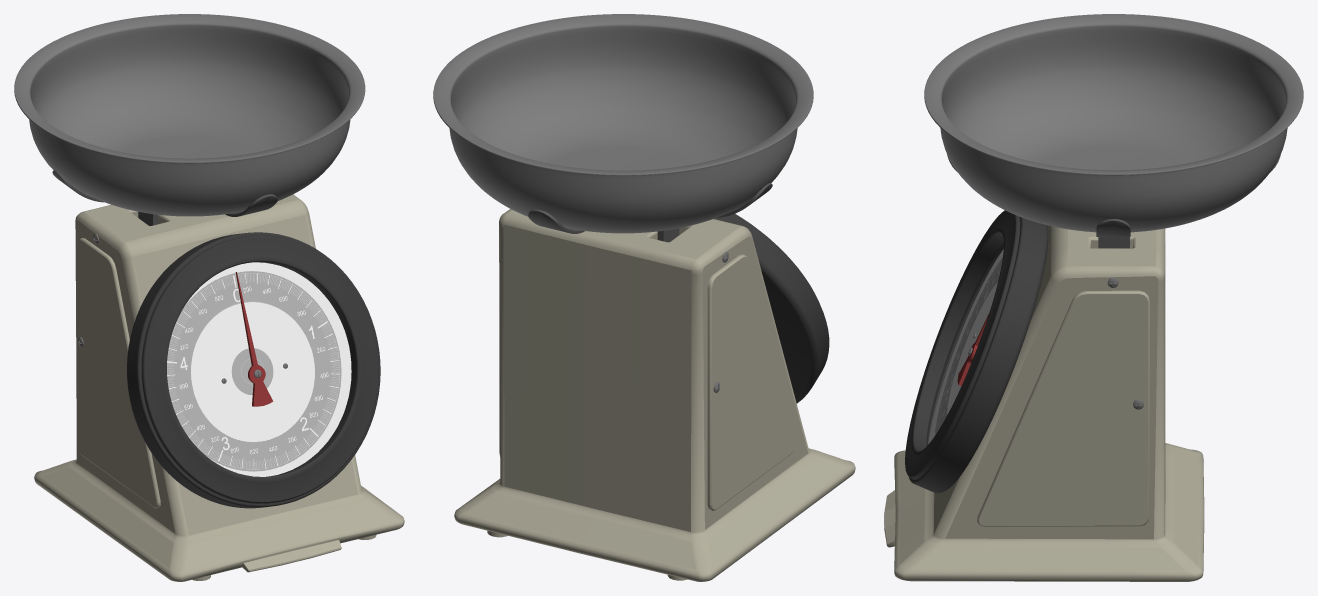
The model's file is scales.obj.
3 renders of one model, left to right at view 1: azimuth 30°, elevation 25°; view 2: azimuth 150°, elevation 25°; view 3: azimuth 270°, elevation 25°, orthographic. The views are drawn at different scales.
Visible parts, largest first — view 1: x_reg_hanson_scales_cup_Untitled, x_reg_hanson_scales_body_Untitled.008, x_reg_hanson_scales_face-display_Untitled.009, x_reg_hanson_scales_face-frame_Untitled.002, x_reg_hanson_scales_side-plates_Untitled.004, x_reg_hanson_scales_display-arrow_Untitled.001, x_reg_hanson_scales_cup-supports02_Untitled.005; view 2: x_reg_hanson_scales_body_Untitled.008, x_reg_hanson_scales_cup_Untitled, x_reg_hanson_scales_side-plates_Untitled.004, x_reg_hanson_scales_face-frame_Untitled.002, x_reg_hanson_scales_cup-supports02_Untitled.005; view 3: x_reg_hanson_scales_cup_Untitled, x_reg_hanson_scales_body_Untitled.008, x_reg_hanson_scales_side-plates_Untitled.004, x_reg_hanson_scales_face-frame_Untitled.002, x_reg_hanson_scales_face-display_Untitled.009, x_reg_hanson_scales_cup-supports02_Untitled.005.
Part boxes in pixels (bbox=[...]): x_reg_hanson_scales_cup_Untitled: bbox=[14, 14, 365, 216]; x_reg_hanson_scales_body_Untitled.008: bbox=[34, 194, 404, 581]; x_reg_hanson_scales_face-display_Untitled.009: bbox=[167, 262, 351, 476]; x_reg_hanson_scales_face-frame_Untitled.002: bbox=[127, 232, 380, 508]; x_reg_hanson_scales_side-plates_Untitled.004: bbox=[77, 238, 160, 508]; x_reg_hanson_scales_display-arrow_Untitled.001: bbox=[235, 272, 273, 406]; x_reg_hanson_scales_cup-supports02_Untitled.005: bbox=[52, 170, 277, 216]; x_reg_hanson_scales_body_Untitled.008: bbox=[454, 209, 855, 581]; x_reg_hanson_scales_cup_Untitled: bbox=[433, 14, 813, 233]; x_reg_hanson_scales_side-plates_Untitled.004: bbox=[499, 254, 795, 510]; x_reg_hanson_scales_face-frame_Untitled.002: bbox=[714, 214, 829, 403]; x_reg_hanson_scales_cup-supports02_Untitled.005: bbox=[528, 183, 772, 233]; x_reg_hanson_scales_cup_Untitled: bbox=[924, 14, 1303, 232]; x_reg_hanson_scales_body_Untitled.008: bbox=[884, 225, 1204, 581]; x_reg_hanson_scales_side-plates_Untitled.004: bbox=[977, 290, 1149, 526]; x_reg_hanson_scales_face-frame_Untitled.002: bbox=[905, 210, 1048, 493]; x_reg_hanson_scales_face-display_Untitled.009: bbox=[928, 249, 1003, 443]; x_reg_hanson_scales_cup-supports02_Untitled.005: bbox=[947, 154, 1280, 236].
Size of the model in its own units: 0.2544 by 0.3198 by 0.2812.
7 materials, 1 textured.
